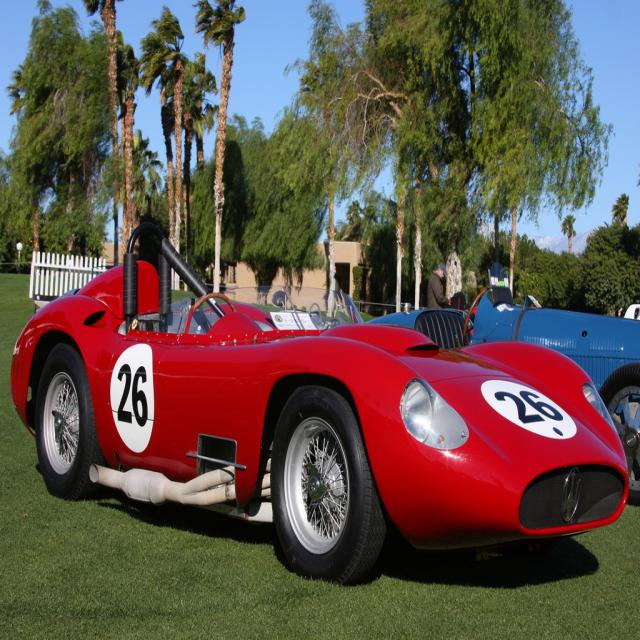car: (26, 246, 605, 569)
